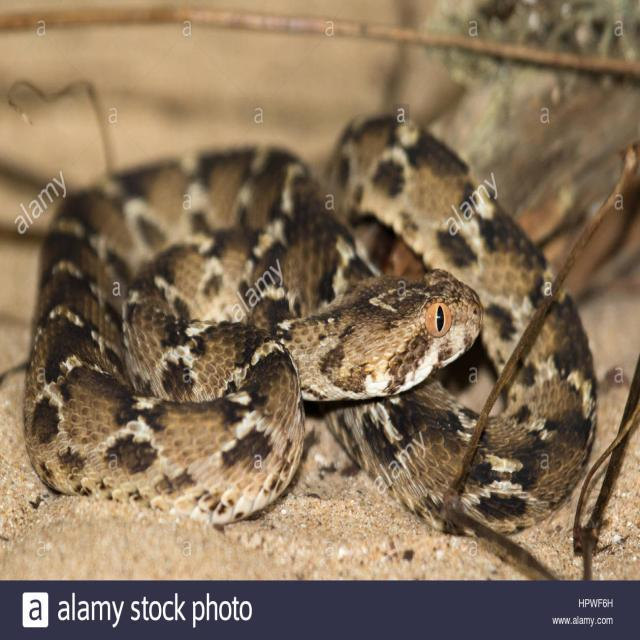Snake: (22, 140, 484, 530), (320, 110, 598, 538)
